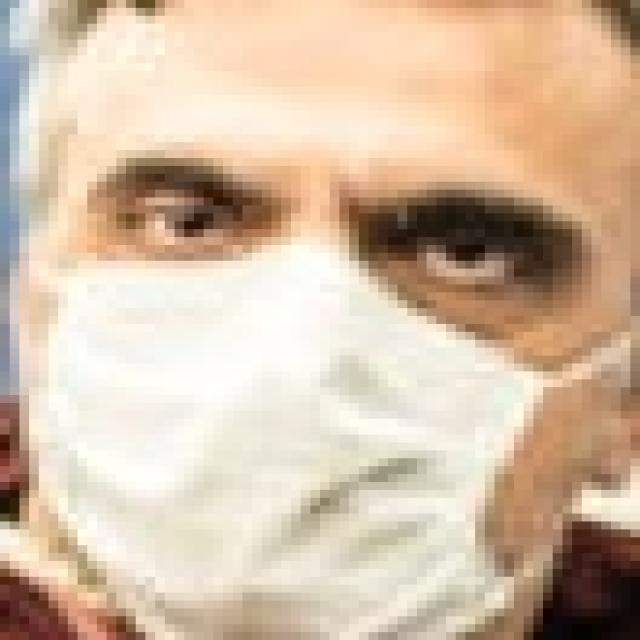Anxiety: (20, 0, 630, 632)
